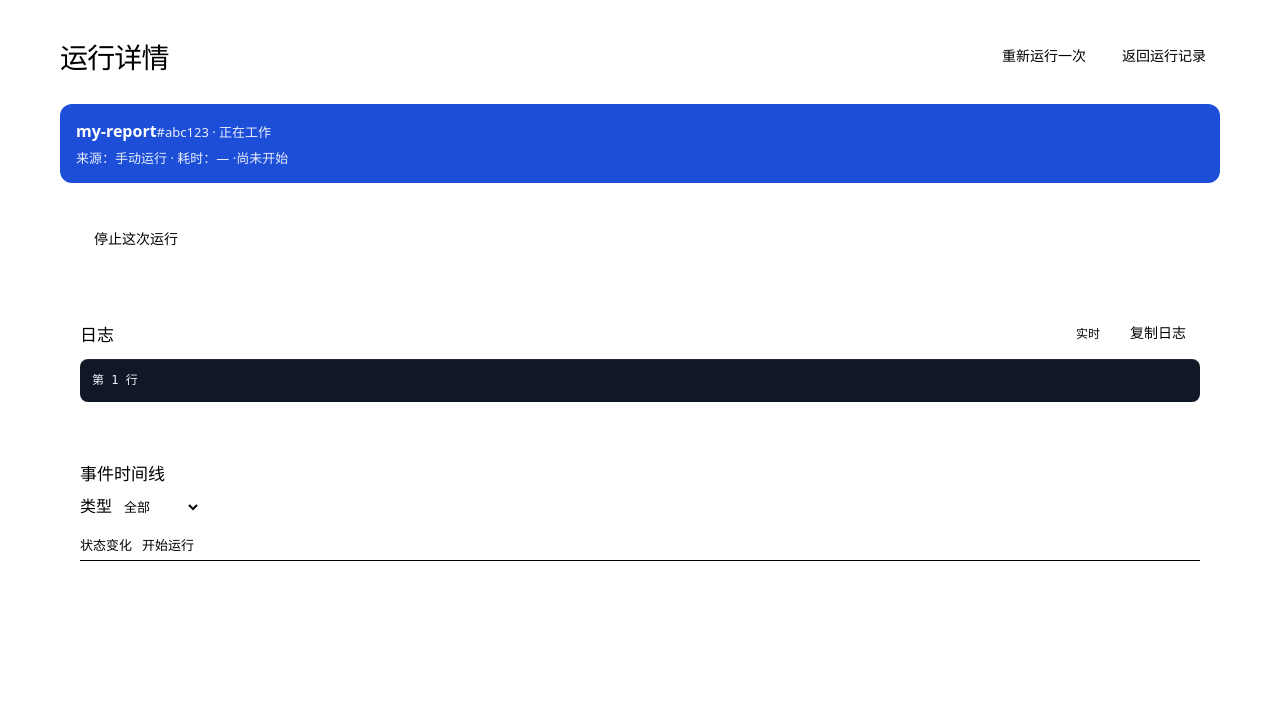
Test case: RunDetailScreen › 非终态显示停止按钮；确认后调 StopRun 并关闭弹层
This screenshot has width=1280, height=720.
Click the button "停止这次运行" at (136, 239), box [80, 221, 192, 257]
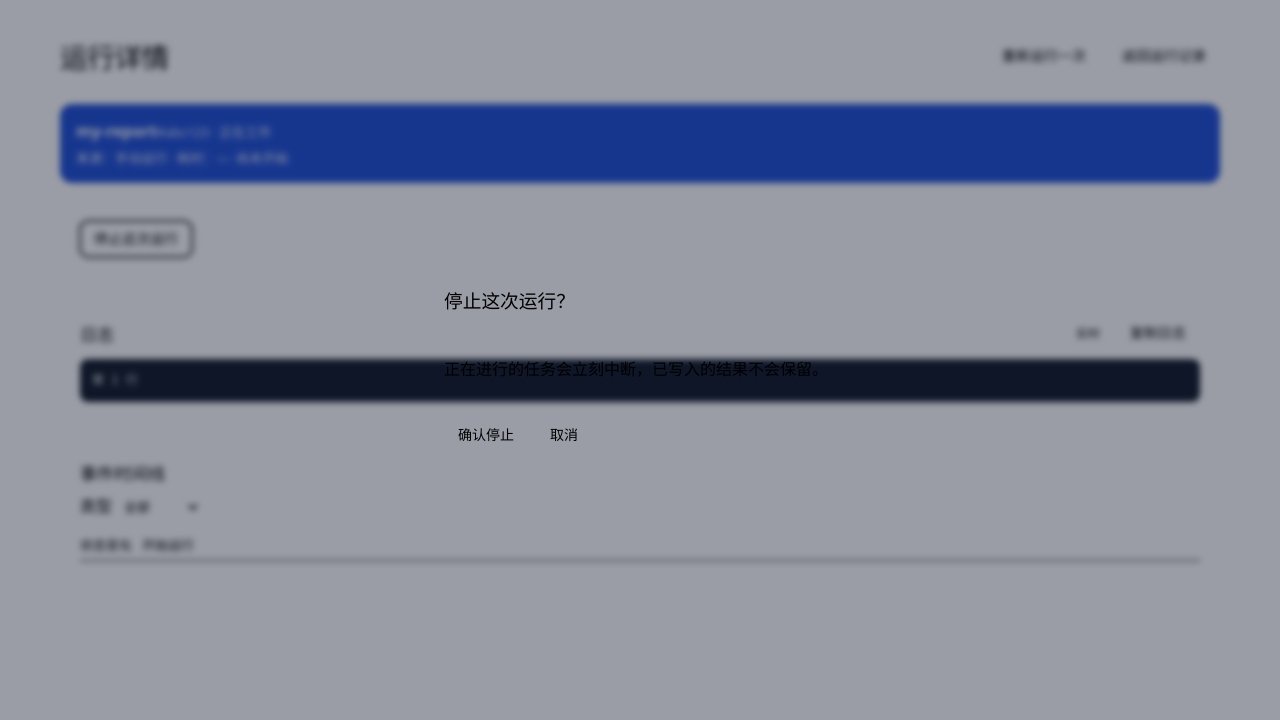
Click the button "确认停止" at (486, 435), box [444, 417, 528, 453]
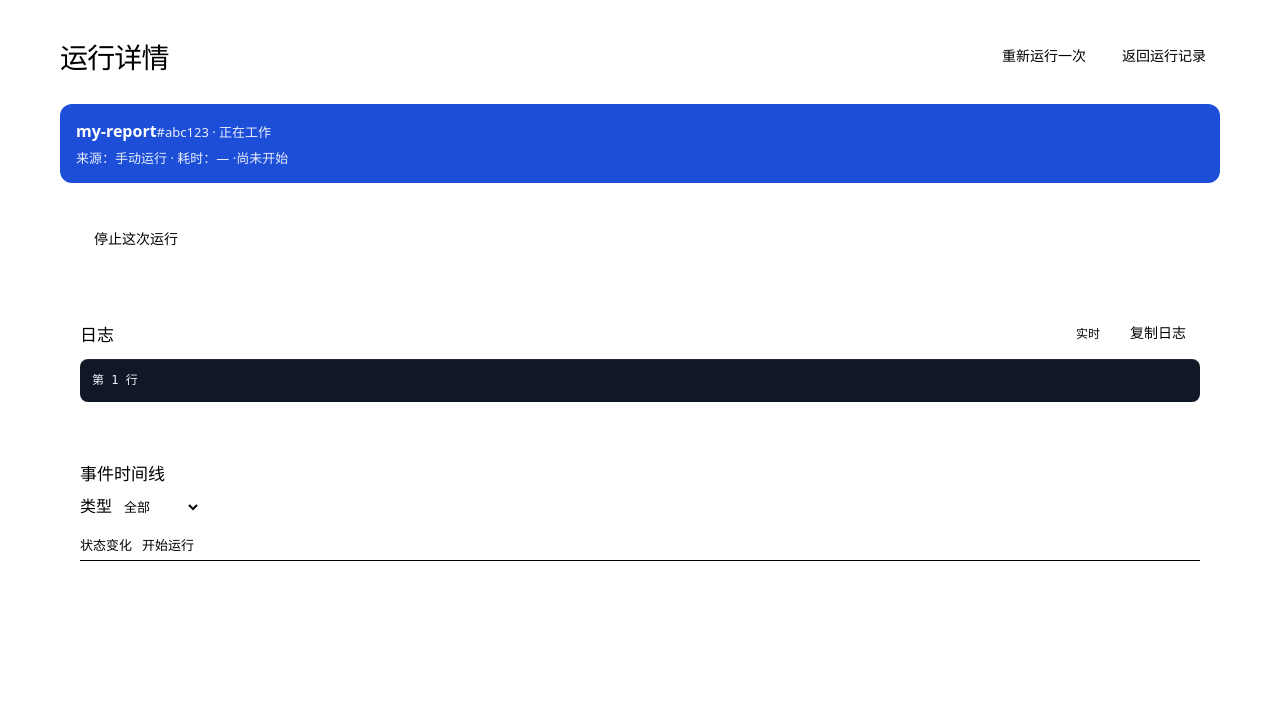
Result: the dialog is gone
